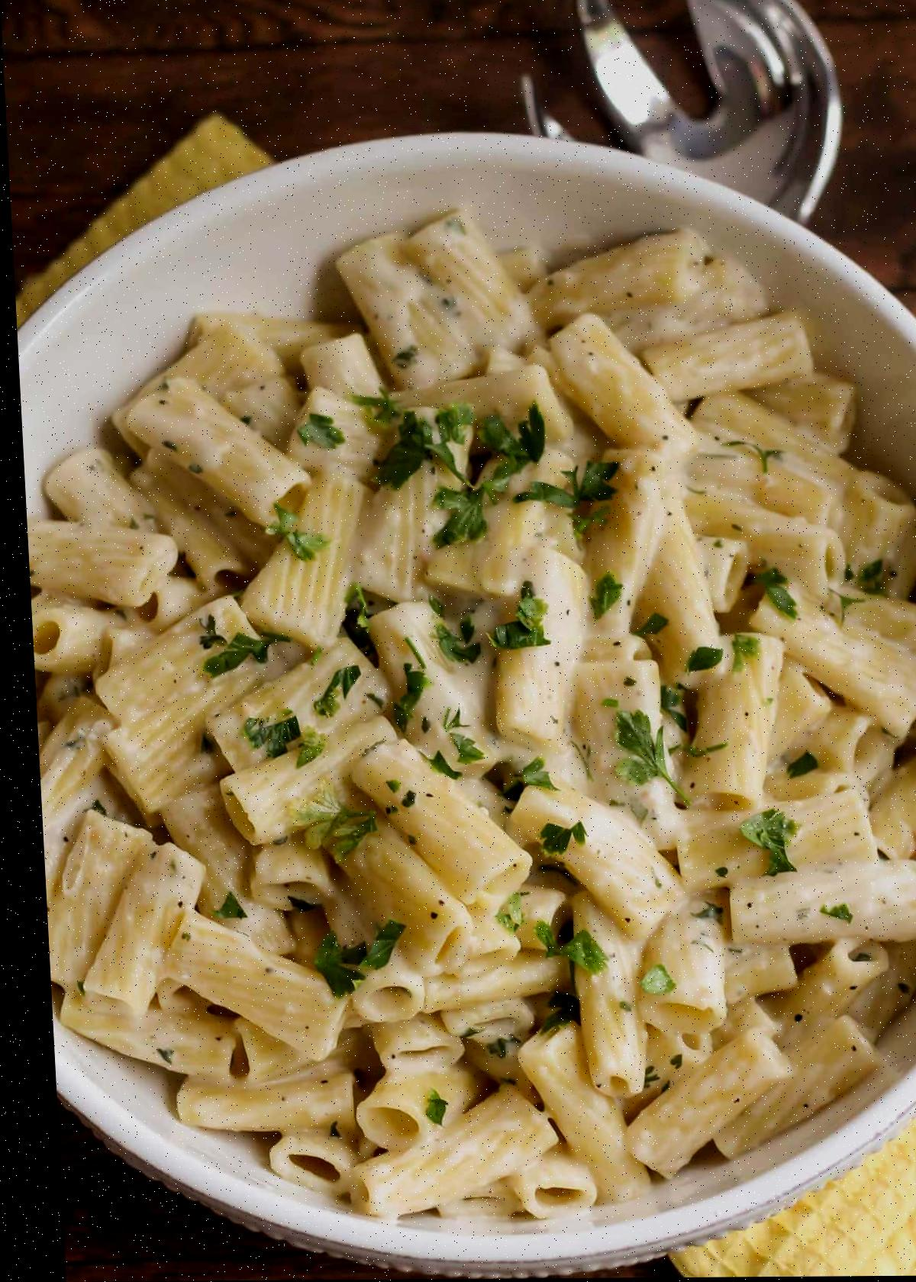pasta: (27, 211, 915, 1219)
